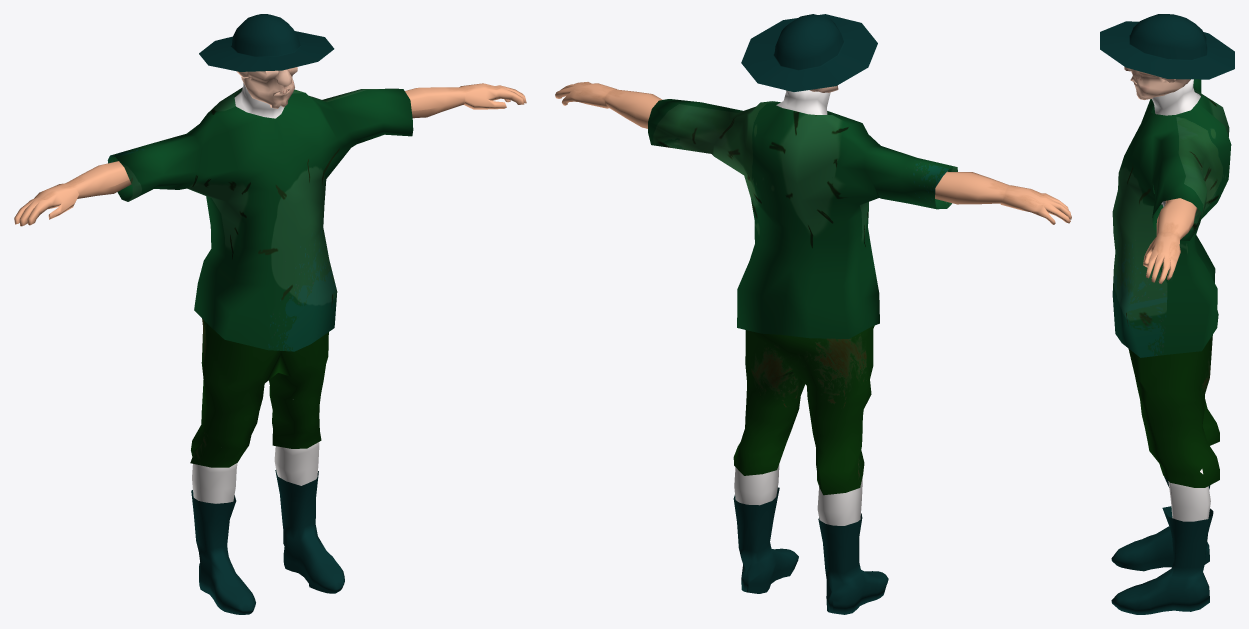
The model's file is Villager4.fbx.
The picture shows the model from 3 angles, left to right: view 1: azimuth 30°, elevation 25°; view 2: azimuth 150°, elevation 25°; view 3: azimuth 270°, elevation 25°; orthographic projection.
Visible parts, largest first — view 1: Male_Villager4_Shirt, Male_Villager4_Pants, Male_Villager4_Hat, Villager4_Right_Boot, Villager4_Left_Boot, Male_Villager4_Left_Arm_Part_2, Male_Villager4_Right_Arm_Part_2, Male_Villager4_Head, Villager4_Left_Leg_Part_2, Villager4_Right_Leg_Part_2, Male_Villager4_Torso; view 2: Male_Villager4_Shirt, Male_Villager4_Pants, Male_Villager4_Hat, Villager4_Left_Boot, Villager4_Right_Boot, Male_Villager4_Left_Arm_Part_2, Male_Villager4_Right_Arm_Part_2, Villager4_Left_Leg_Part_2, Villager4_Right_Leg_Part_2, Male_Villager4_Torso; view 3: Male_Villager4_Shirt, Male_Villager4_Pants, Male_Villager4_Hat, Villager4_Right_Boot, Male_Villager4_Right_Arm_Part_2, Villager4_Left_Boot, Villager4_Right_Leg_Part_2, Male_Villager4_Head, Male_Villager4_Torso.
Part boxes in pixels (box(x1,y1,x2,y2)): Male_Villager4_Shirt: box(107, 87, 413, 351); Male_Villager4_Pants: box(190, 318, 328, 467); Male_Villager4_Hat: box(199, 14, 334, 71); Villager4_Right_Boot: box(275, 470, 344, 593); Villager4_Left_Boot: box(191, 490, 255, 614); Male_Villager4_Left_Arm_Part_2: box(14, 161, 131, 226); Male_Villager4_Right_Arm_Part_2: box(405, 83, 526, 118); Male_Villager4_Head: box(237, 67, 297, 108); Villager4_Left_Leg_Part_2: box(192, 463, 237, 503); Villager4_Right_Leg_Part_2: box(274, 442, 319, 485); Male_Villager4_Torso: box(234, 83, 284, 118); Male_Villager4_Shirt: box(648, 99, 957, 338); Male_Villager4_Pants: box(733, 325, 874, 495); Male_Villager4_Hat: box(741, 14, 877, 91); Villager4_Left_Boot: box(818, 513, 888, 614); Villager4_Right_Boot: box(733, 487, 798, 593); Male_Villager4_Left_Arm_Part_2: box(935, 171, 1071, 224); Male_Villager4_Right_Arm_Part_2: box(555, 82, 662, 128); Villager4_Left_Leg_Part_2: box(817, 478, 862, 525); Villager4_Right_Leg_Part_2: box(734, 464, 779, 505); Male_Villager4_Torso: box(776, 90, 830, 114); Male_Villager4_Shirt: box(1112, 79, 1231, 357); Male_Villager4_Pants: box(1128, 335, 1219, 487); Male_Villager4_Hat: box(1100, 14, 1234, 79); Villager4_Right_Boot: box(1111, 506, 1213, 614); Male_Villager4_Right_Arm_Part_2: box(1143, 198, 1197, 283); Villager4_Left_Boot: box(1111, 476, 1210, 571); Villager4_Right_Leg_Part_2: box(1168, 469, 1210, 521); Male_Villager4_Head: box(1124, 67, 1190, 99); Male_Villager4_Torso: box(1152, 79, 1200, 204).
Bounding box in the file's own units: 189 × 201 × 43.13.
